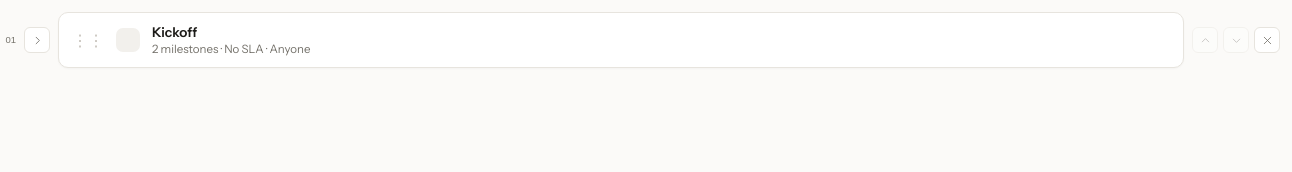
Test: StageRow › collapses again on a second click
Click the button named "Expand stage".
click(37, 40)  # box [24,27,50,53]
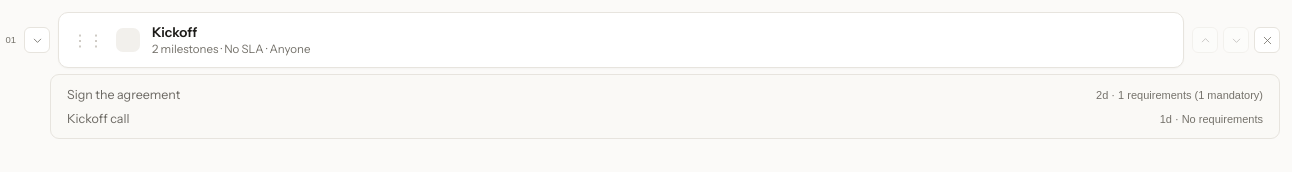
Click the button named "Collapse stage".
click(37, 40)  # box [24,27,50,53]
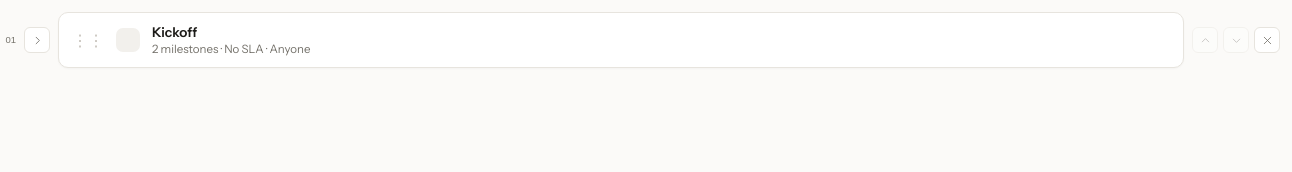
Expected: the text "Sign the agreement" is gone
